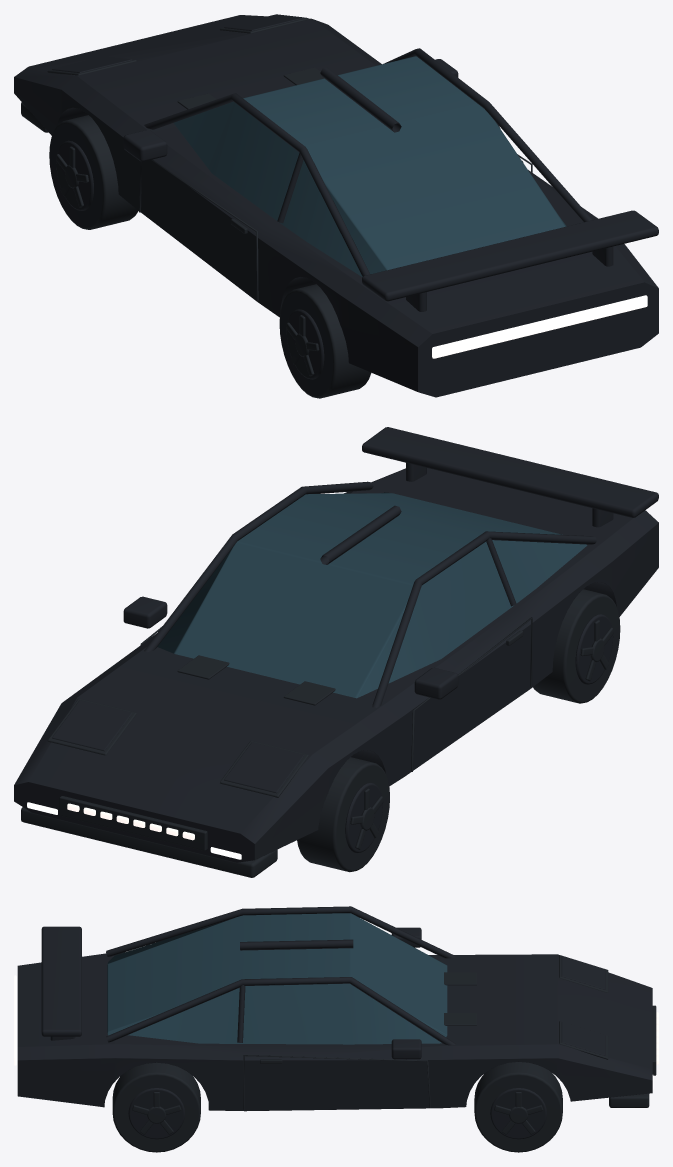
The model's file is runtime-before-promotion.glb.
3 views of the same model, one above another, from view 1: azimuth 30°, elevation 25°; view 2: azimuth 150°, elevation 25°; view 3: azimuth 270°, elevation 25° (orthographic). The views are drawn at different scales.
Parts seen in each view (by area): view 1: Trans Am long wedge shell, Fastback greenhouse, Rear wing, Wheel_FL, Wheel_RL, T top outer frame, Rear lamp panel, T top outer frame.001, AeroCover_RL, AeroCover_FL, T top central spine, Mirror (+3 smaller); view 2: Trans Am long wedge shell, Fastback greenhouse, Rear wing, Wheel_FL, Wheel_RL, Front air dam, T top outer frame, T top outer frame.001, Scanner nose recess, Pop up headlight lid.001, Pop up headlight lid, AeroCover_RL (+8 smaller); view 3: Trans Am long wedge shell, Fastback greenhouse, Rear wing, Wheel_FR, Wheel_RR, T top outer frame.001, T top outer frame, AeroCover_FR, AeroCover_RR, T top central spine, Pop up headlight lid.001, Pop up headlight lid (+5 smaller).
Boxes of the visible parts, box(x1,y1,x2,y2) form: Trans Am long wedge shell: box(14, 15, 658, 397); Fastback greenhouse: box(173, 56, 566, 276); Rear wing: box(362, 210, 658, 301); Wheel_FL: box(49, 115, 138, 229); Wheel_RL: box(279, 284, 371, 398); T top outer frame: box(144, 93, 369, 276); Rear lamp panel: box(432, 295, 647, 358); T top outer frame.001: box(383, 48, 592, 222); AeroCover_RL: box(286, 309, 324, 379); AeroCover_FL: box(56, 140, 93, 210); T top central spine: box(320, 67, 401, 132); Mirror: box(123, 130, 167, 161); Trans Am long wedge shell: box(14, 468, 658, 862); Fastback greenhouse: box(157, 492, 587, 698); Rear wing: box(362, 427, 658, 517); Wheel_FL: box(297, 757, 389, 872); Wheel_RL: box(533, 589, 620, 703); Front air dam: box(21, 807, 277, 877); T top outer frame: box(372, 531, 596, 707); T top outer frame.001: box(144, 481, 373, 652); Scanner nose recess: box(59, 796, 207, 850); Pop up headlight lid.001: box(52, 700, 132, 751); Pop up headlight lid: box(224, 742, 304, 793); AeroCover_RL: box(575, 614, 613, 684); Trans Am long wedge shell: box(17, 952, 652, 1111); Fastback greenhouse: box(107, 913, 447, 1044); Rear wing: box(41, 926, 81, 1036); Wheel_FR: box(474, 1062, 562, 1152); Wheel_RR: box(112, 1062, 200, 1152); T top outer frame.001: box(106, 977, 455, 1045); T top outer frame: box(106, 906, 455, 958); AeroCover_FR: box(490, 1088, 546, 1139); AeroCover_RR: box(128, 1088, 184, 1139); T top central spine: box(240, 939, 353, 950); Pop up headlight lid.001: box(561, 1022, 605, 1055); Pop up headlight lid: box(561, 956, 605, 989).
Size of the model in its own units: 2.22 by 1.34 by 4.96.
